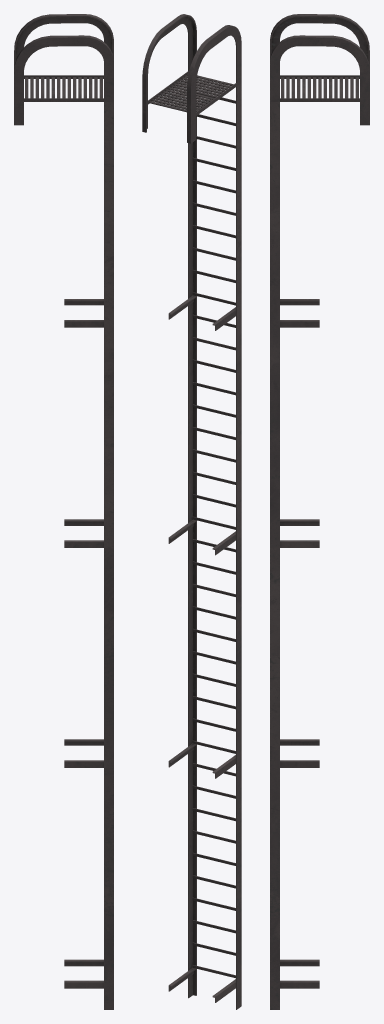
The model's file is lestnitsa_pozharnaya2.fbx.
3 renders of one model, left to right at view 1: azimuth 90°, elevation 25°; view 2: azimuth 150°, elevation 25°; view 3: azimuth 270°, elevation 25°, orthographic.
Parts seen in each view (by area): view 1: up, middle, down; view 2: middle, up, down; view 3: up, middle, down.
Part boxes in pixels (x1,y1,x2,y2): up: (14, 14, 113, 308); middle: (64, 299, 113, 749); down: (64, 739, 113, 1009); middle: (168, 282, 241, 745); up: (142, 14, 241, 296); down: (168, 731, 241, 1009); up: (270, 14, 369, 308); middle: (270, 299, 319, 749); down: (270, 739, 319, 1009).
Bounding box in the file's own units: 43.48 × 845 × 78.49.
